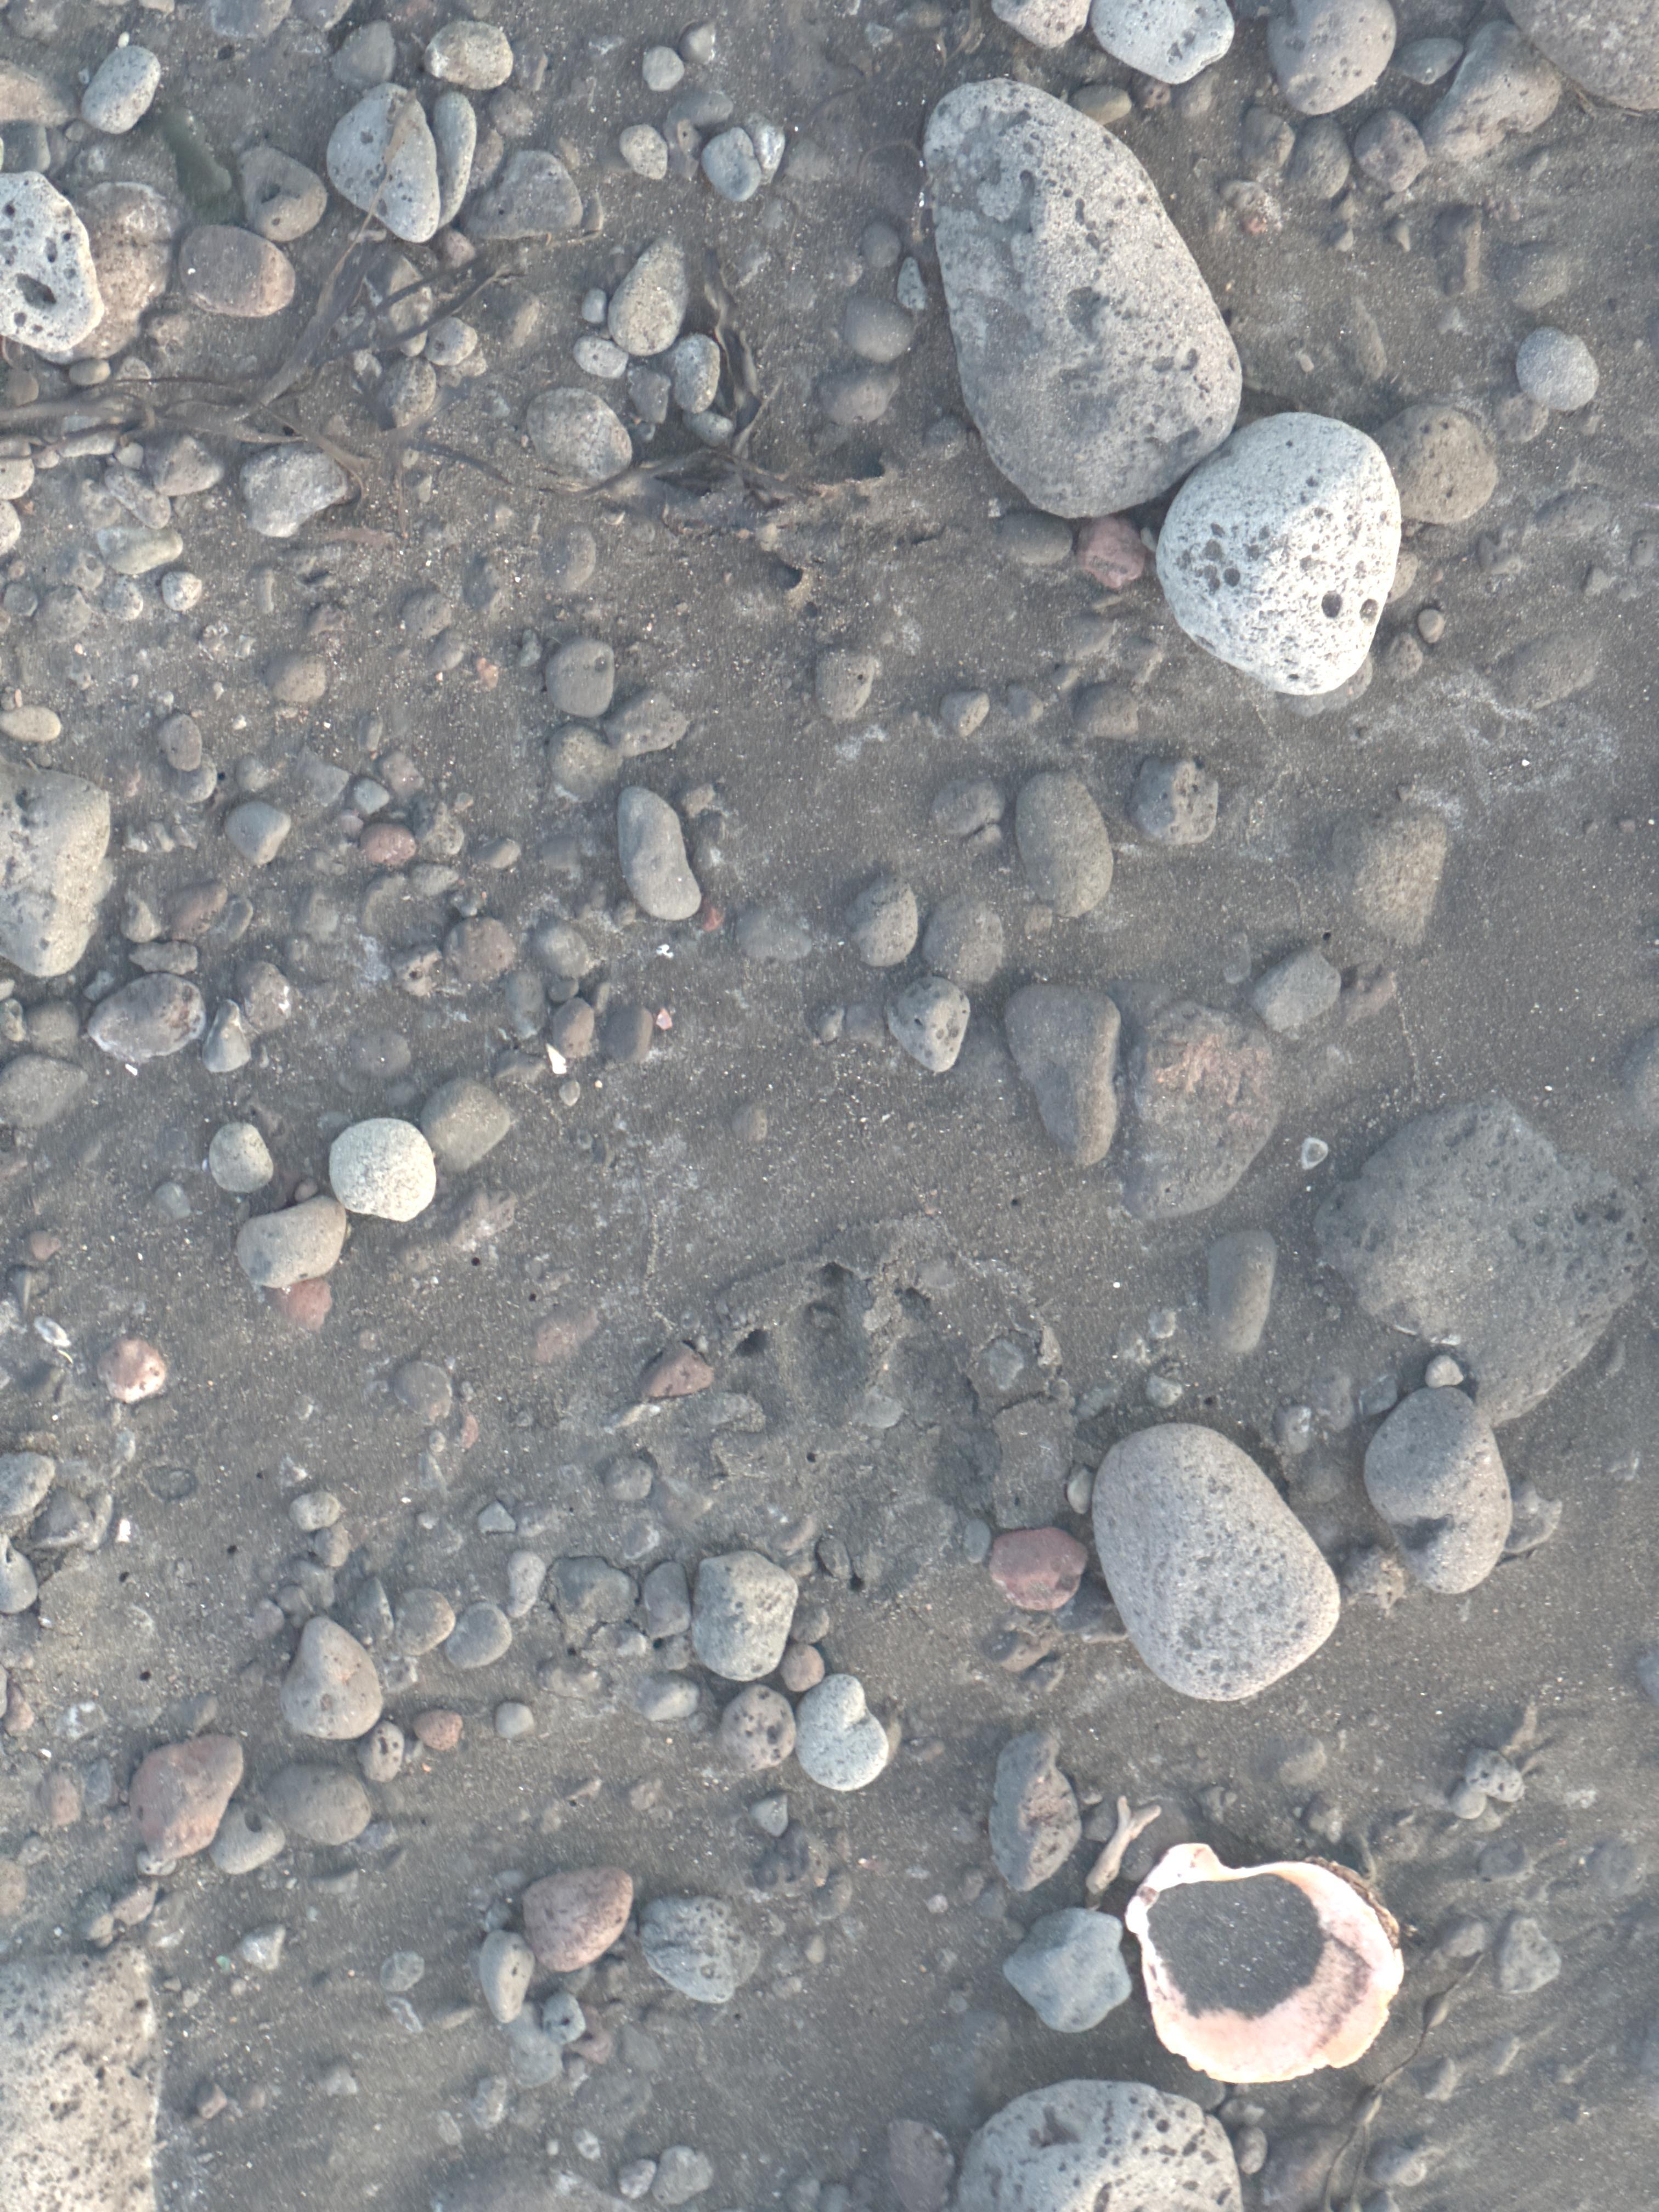trash: (0, 496, 21, 557)
